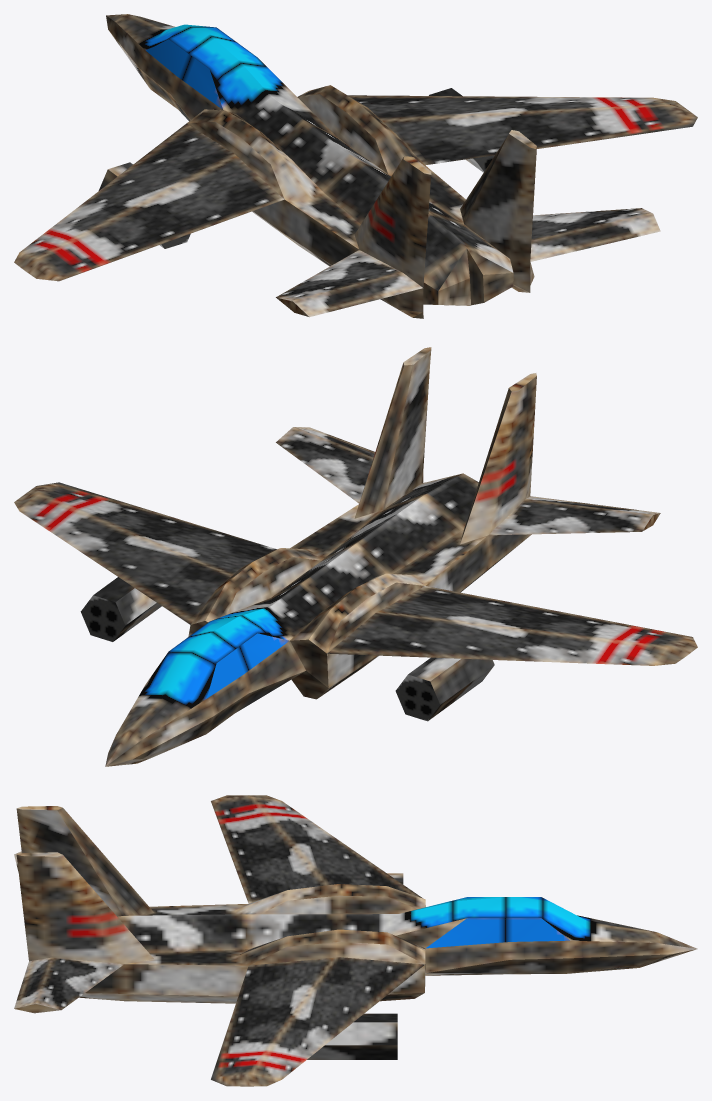
File: mig.obj
3 views of the same model, one above another, from view 1: azimuth 30°, elevation 25°; view 2: azimuth 150°, elevation 25°; view 3: azimuth 270°, elevation 25° (orthographic). The views are drawn at different scales.
Parts seen in each view (by area): view 1: Mig; view 2: Mig; view 3: Mig.
Part boxes in pixels (box(x1,y1,x2,y2)): Mig: box(14, 14, 697, 318); Mig: box(14, 347, 697, 766); Mig: box(14, 795, 697, 1086).
Size of the model in its own units: 16.65 by 4 by 16.53.
Materials: 1 (1 with a texture image).
